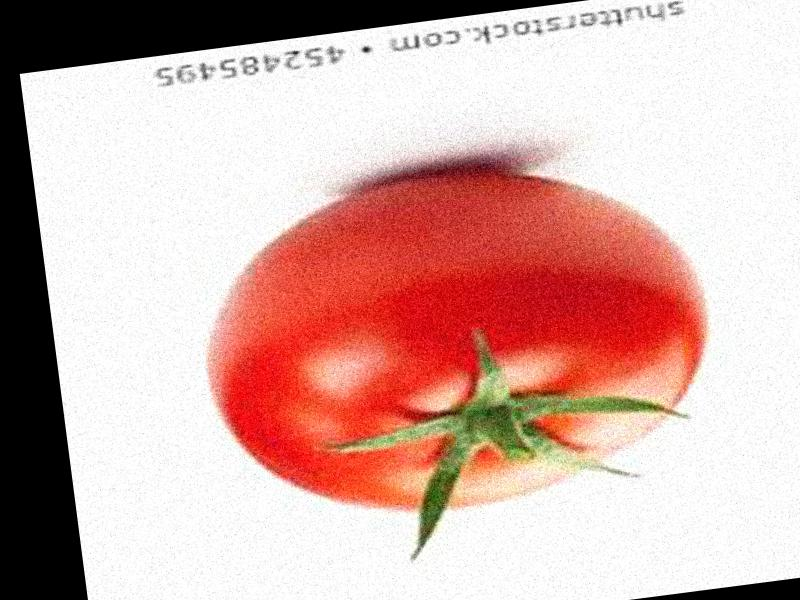Tomato: (192, 141, 720, 536)
